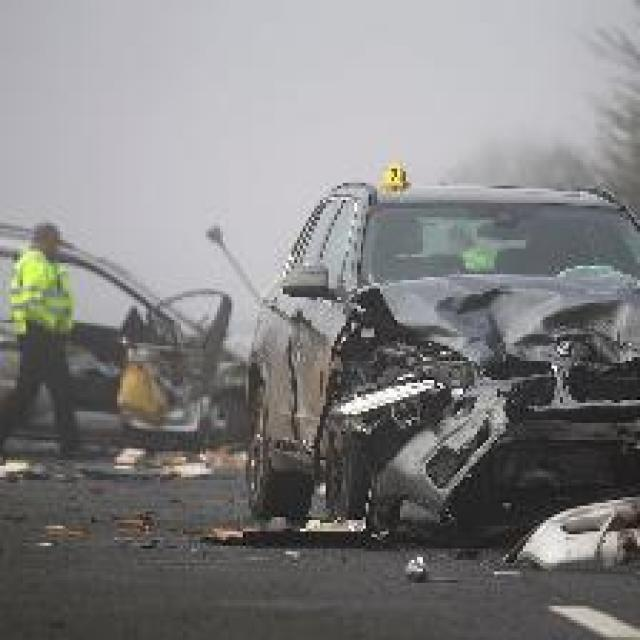damaged: (340, 282, 637, 538)
